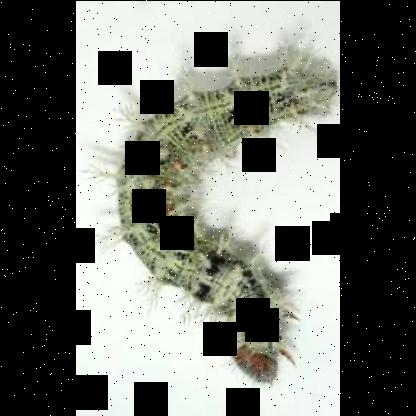oruga: (82, 44, 340, 386)
